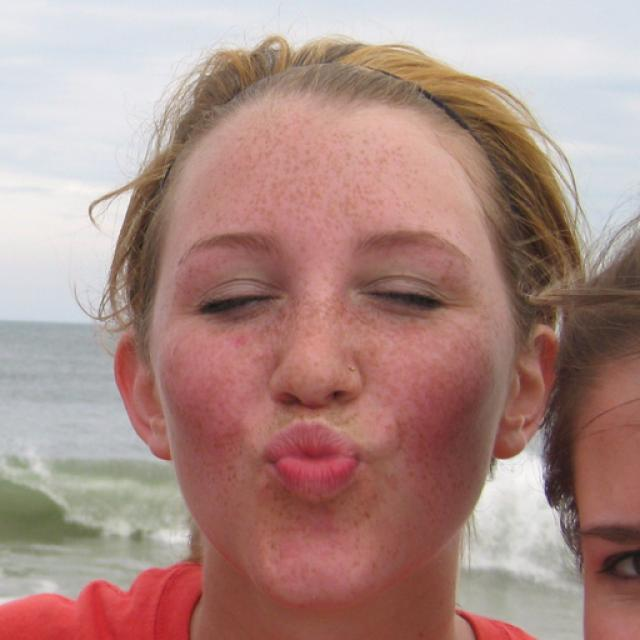Pigmentation: (187, 114, 446, 244), (258, 288, 375, 395)
